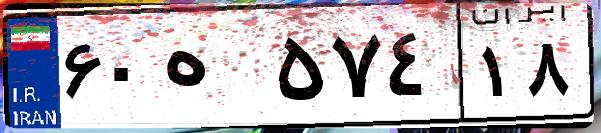0: (110, 28, 158, 98)
1: (475, 38, 525, 113)
4: (385, 28, 445, 110)
5: (270, 28, 330, 110)
6: (57, 26, 110, 100)
7: (330, 28, 385, 110)
8: (525, 38, 570, 115)
ه: (158, 20, 270, 120)
